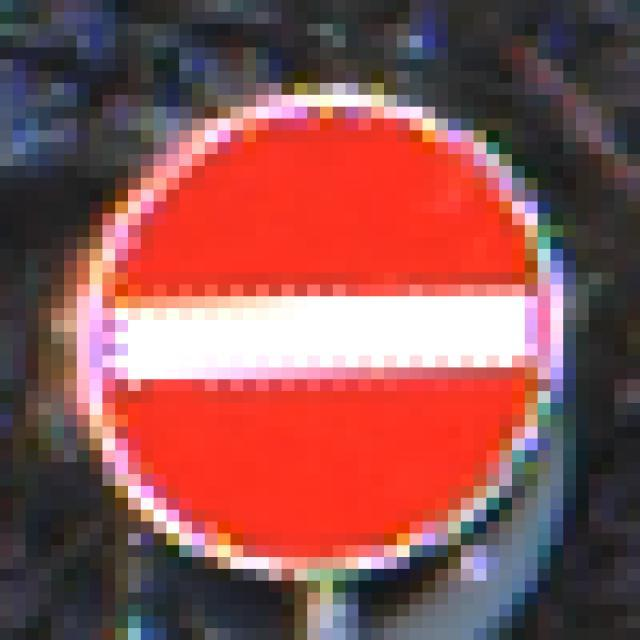no entry: (35, 77, 577, 607)
